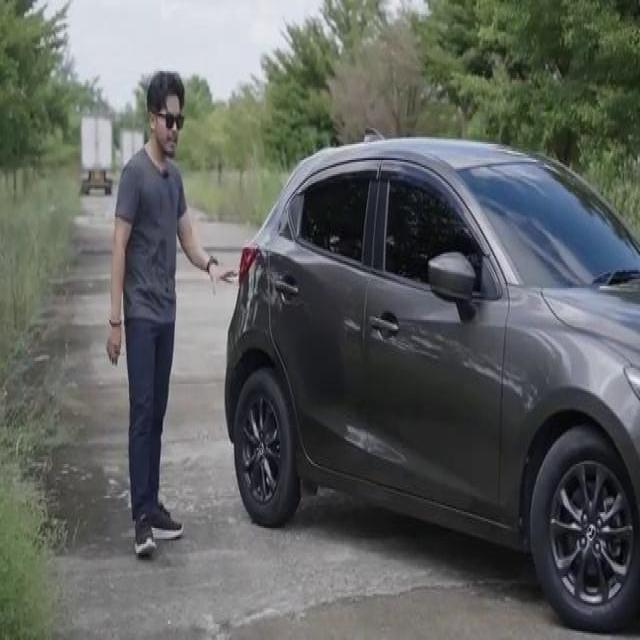Hatchback: (225, 135, 639, 628)
